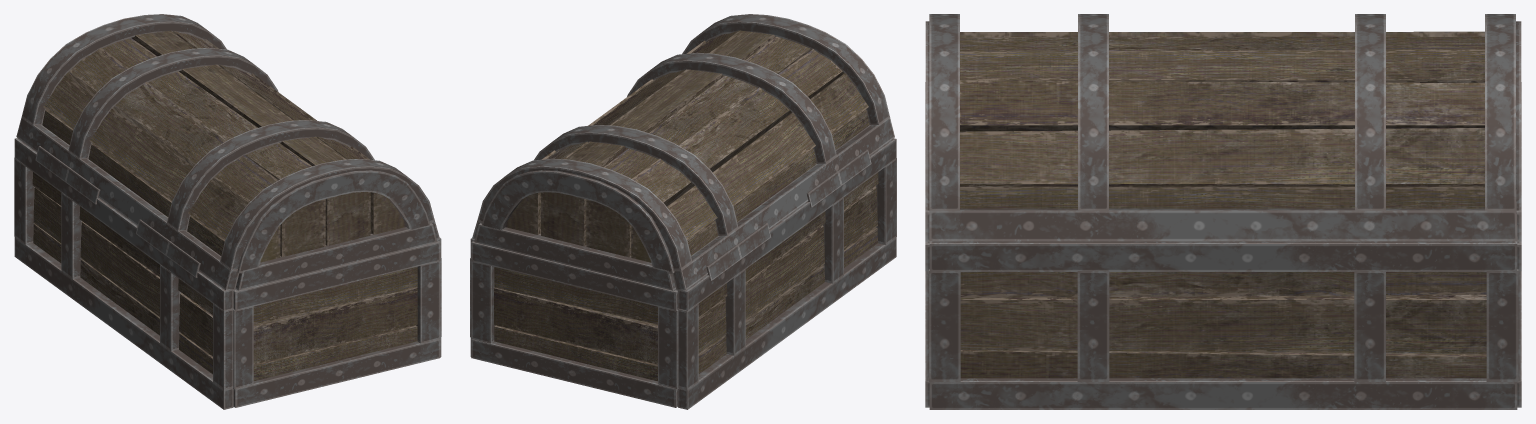
The model's file is Props_ChestIron.fbx.
The picture shows the model from 3 angles, left to right: view 1: azimuth 30°, elevation 25°; view 2: azimuth 150°, elevation 25°; view 3: azimuth 270°, elevation 25°; orthographic projection. The views are drawn at different scales.
Visible parts, largest first — view 1: CDTMesh_WoodSteelChestPivot, CDTMesh_WoodSteelChest; view 2: CDTMesh_WoodSteelChestPivot, CDTMesh_WoodSteelChest; view 3: CDTMesh_WoodSteelChestPivot, CDTMesh_WoodSteelChest.
Boxes of the visible parts, x1,y1,x2,y2 form: CDTMesh_WoodSteelChestPivot: (16,14,439,290); CDTMesh_WoodSteelChest: (14,138,441,409); CDTMesh_WoodSteelChestPivot: (472,14,894,290); CDTMesh_WoodSteelChest: (470,138,896,409); CDTMesh_WoodSteelChestPivot: (925,14,1521,241); CDTMesh_WoodSteelChest: (925,241,1521,409).
Size of what is drawn, in the model's own units: 1.74 by 1.63 by 2.92.
1 material, 1 textured.
